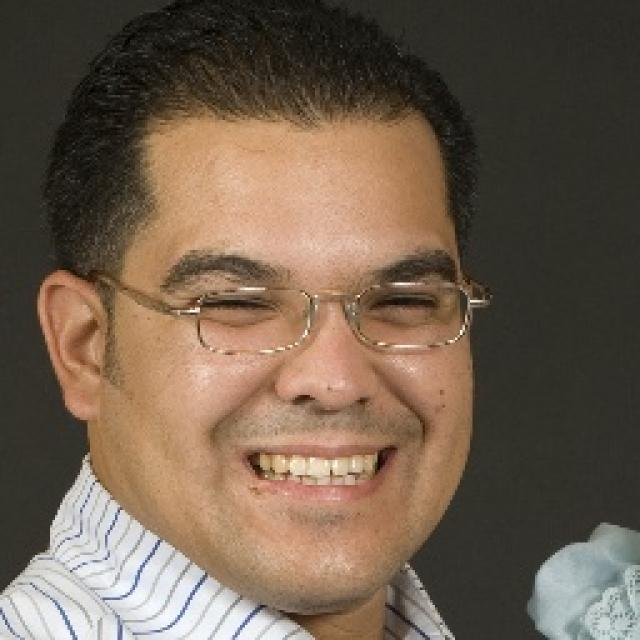earlobe: (62, 370, 106, 420)
eye: (193, 290, 276, 318), (371, 291, 438, 317)
nose: (284, 390, 386, 446)
wholeear: (37, 270, 106, 419)
